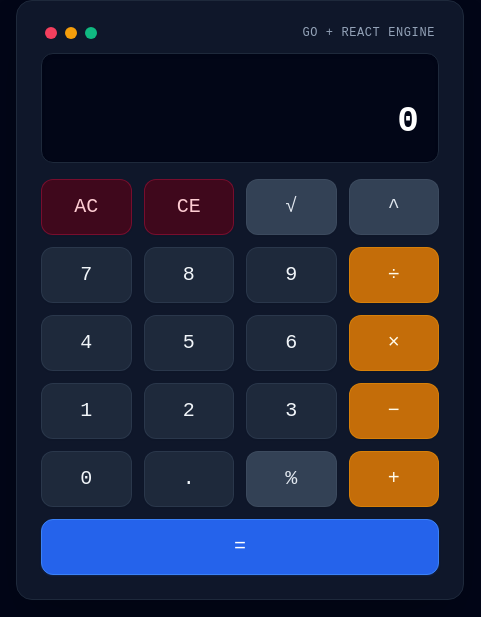
Calculator Component Integration & User Interactions › clears state on AC button press
Click the button "8" at (189,275), box [144,247,234,303]
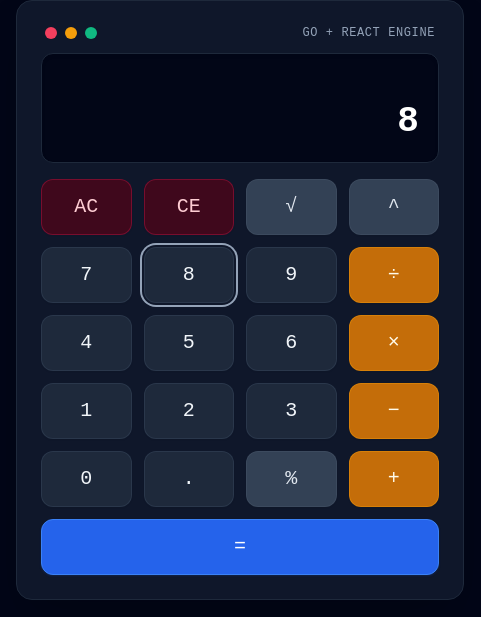
Click the button "9" at (291,275), box [246,247,336,303]
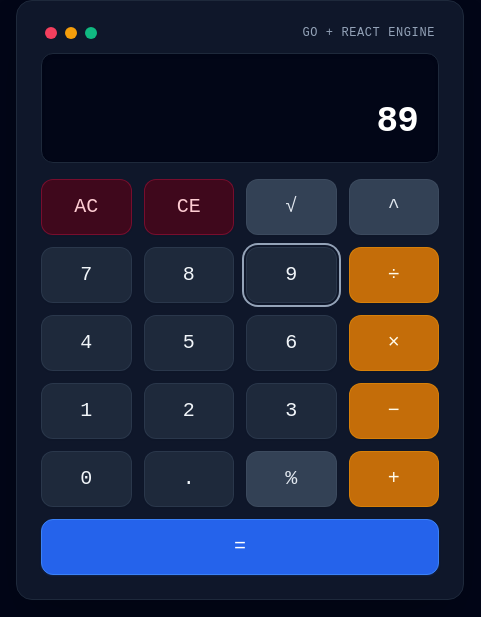
Check: the text with test id "calculator-display" reads "89", box [377,101,418,142]
Click the button with aria-label "All Clear" at (86,207), box [41,179,132,235]
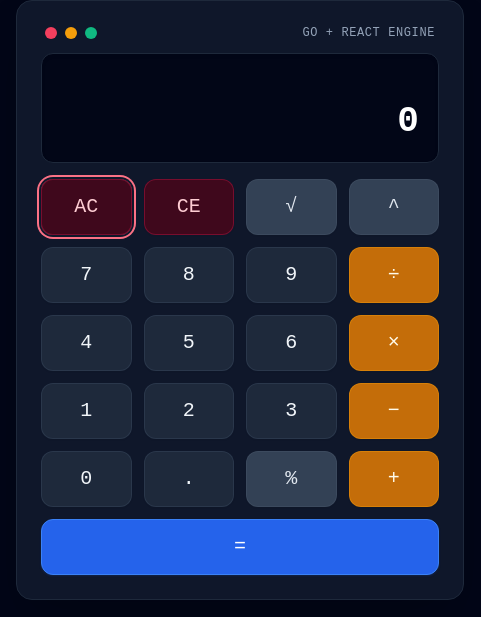
Check: the text with test id "calculator-display" reads "0", box [397,101,418,142]
